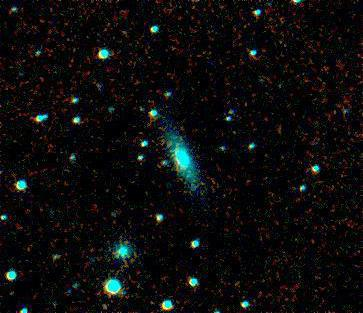star: (0, 281, 23, 311)
